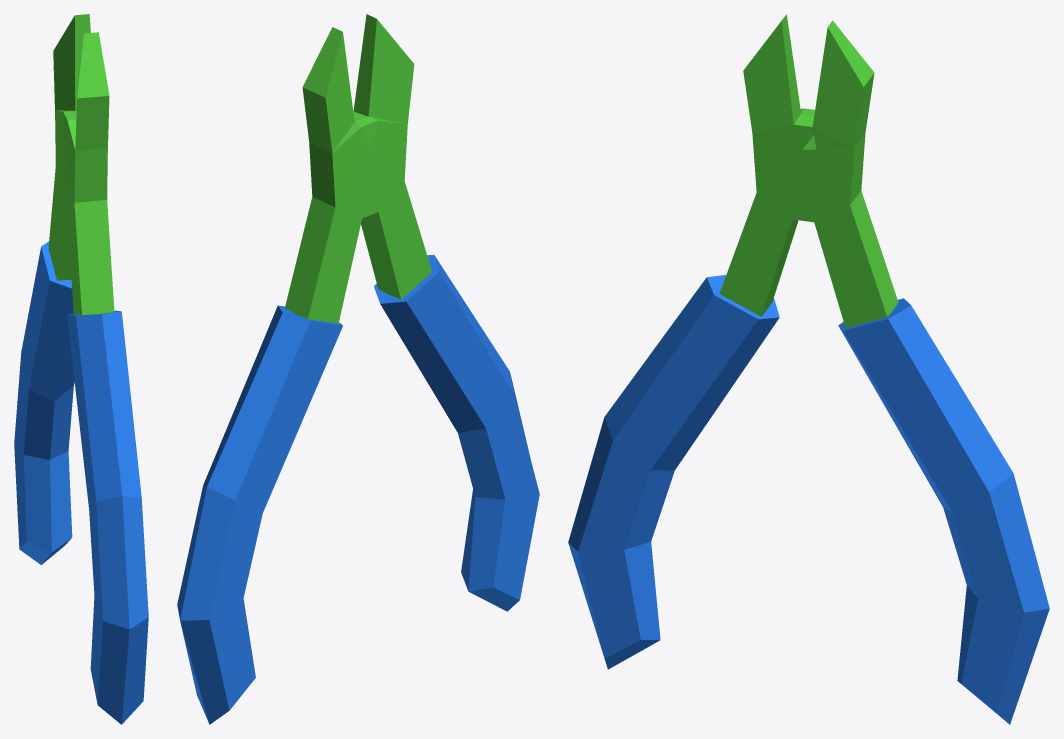
The model's file is 067_WireCutter.fbx.
The picture shows the model from 3 angles, left to right: view 1: azimuth 30°, elevation 25°; view 2: azimuth 150°, elevation 25°; view 3: azimuth 270°, elevation 25°; orthographic projection. The views are drawn at different scales.
Parts seen in each view (by area): view 1: WIRECUTTER; view 2: WIRECUTTER; view 3: WIRECUTTER.
Part boxes in pixels (x1,y1,x2,y2): WIRECUTTER: [14, 14, 148, 724]; WIRECUTTER: [177, 14, 539, 724]; WIRECUTTER: [568, 14, 1049, 724].
Bounding box in the file's own units: 26.23 × 102 × 65.32.
